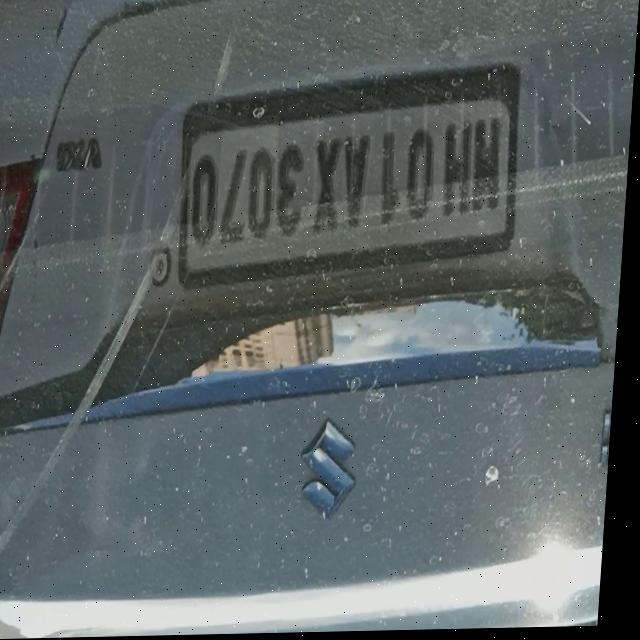plate: (173, 63, 526, 298)
